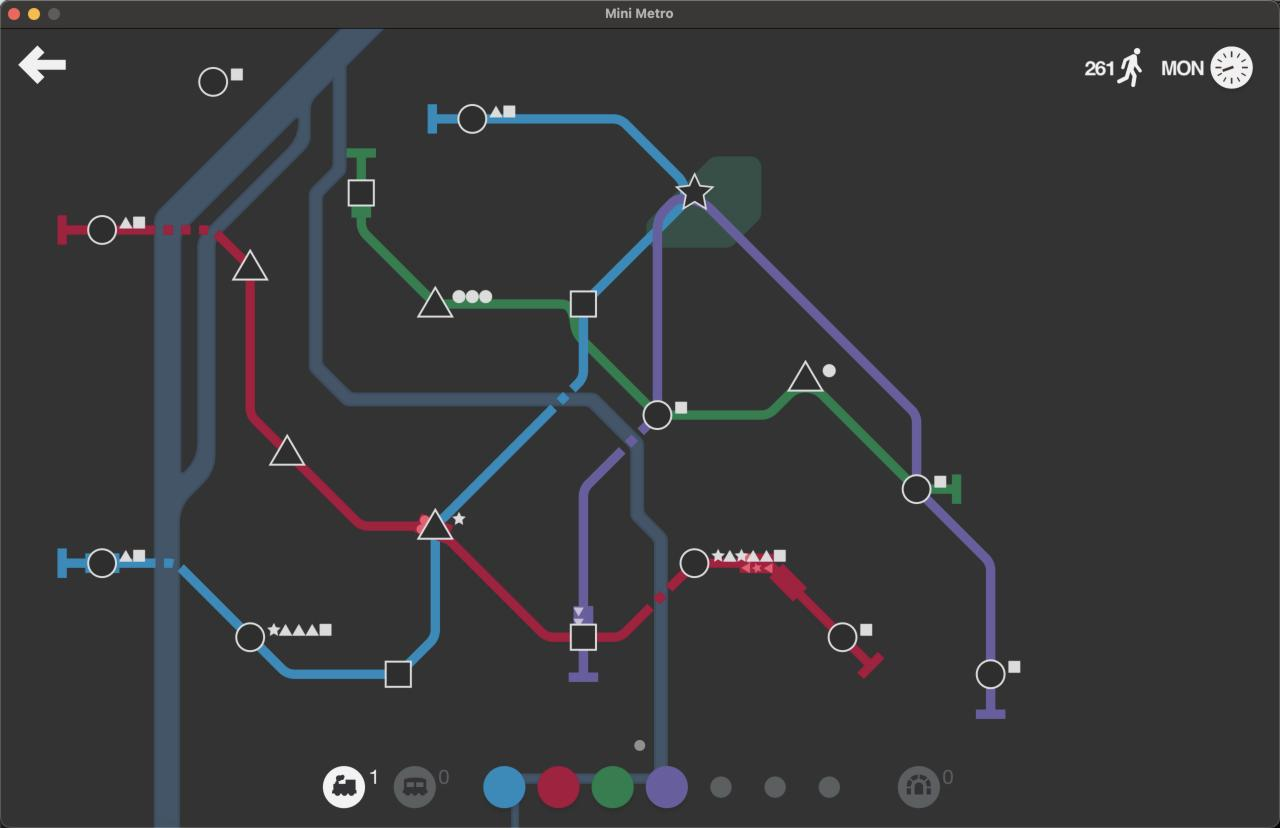CIRCLE: (197, 65, 230, 98), (901, 473, 933, 505), (86, 547, 118, 579), (827, 621, 858, 654), (642, 399, 673, 431), (86, 214, 117, 246), (457, 103, 488, 135), (679, 547, 710, 579), (975, 658, 1006, 690), (235, 621, 266, 653)
SQUARE: (346, 178, 375, 209), (569, 289, 599, 318), (384, 659, 413, 688), (569, 622, 598, 651)
STAR: (678, 175, 713, 210)
TRIANGLE: (416, 507, 456, 542), (785, 359, 825, 393), (416, 285, 455, 319), (231, 249, 270, 282), (269, 434, 306, 466)
